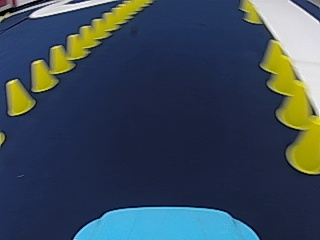cone: (275, 77, 315, 128), (285, 117, 319, 173), (263, 43, 299, 93), (259, 39, 290, 76), (4, 78, 35, 115), (29, 59, 56, 92), (48, 44, 69, 73), (64, 34, 86, 59), (76, 25, 96, 49), (88, 17, 106, 40), (243, 3, 260, 23), (99, 11, 115, 32)
